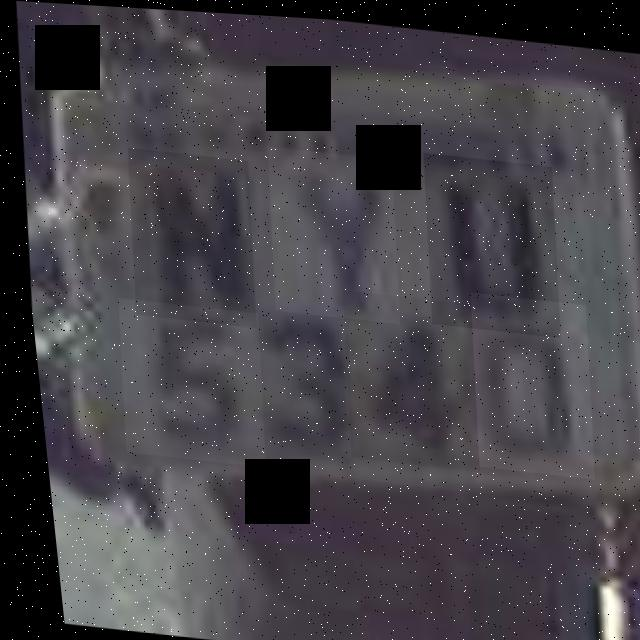0: (456, 287, 595, 473)
3: (217, 287, 373, 460)
4: (328, 286, 478, 467)
5: (104, 297, 266, 466)
N: (116, 146, 259, 326)
U: (411, 147, 563, 332)
Y: (256, 143, 403, 320)
